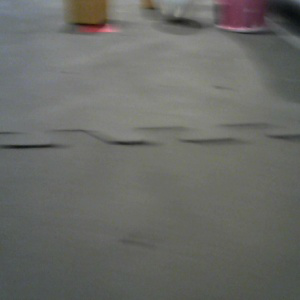right: (214, 1, 267, 32)
